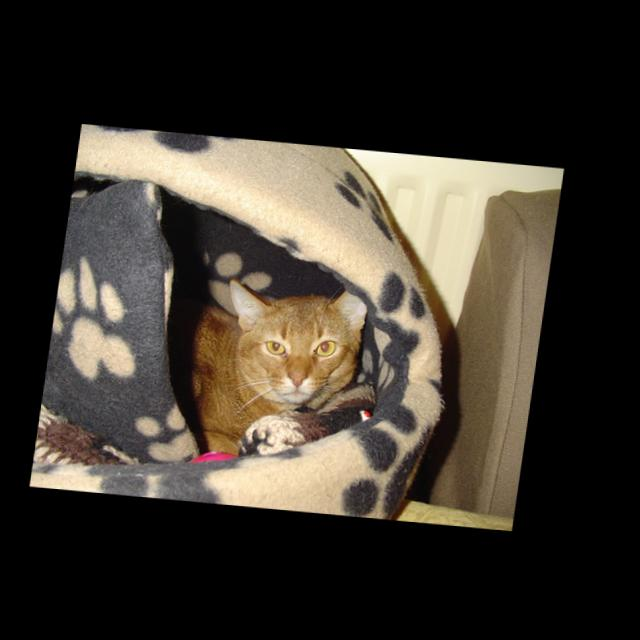animals: (224, 250, 381, 388)
